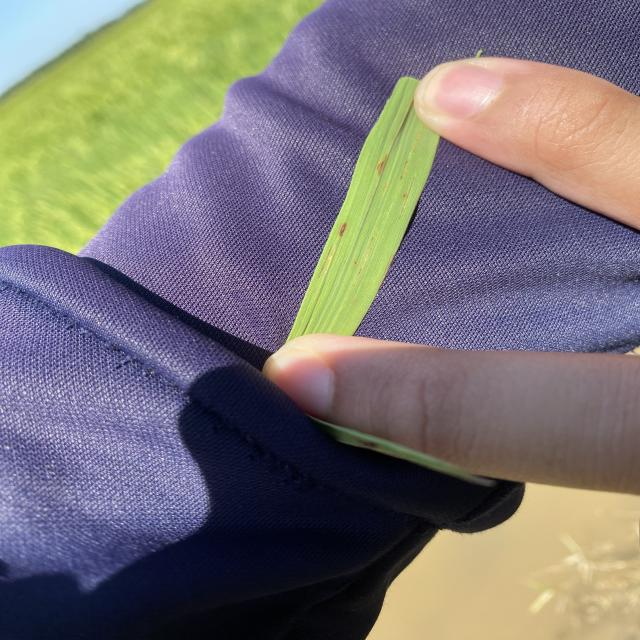Dom nau: (339, 223, 346, 237)
